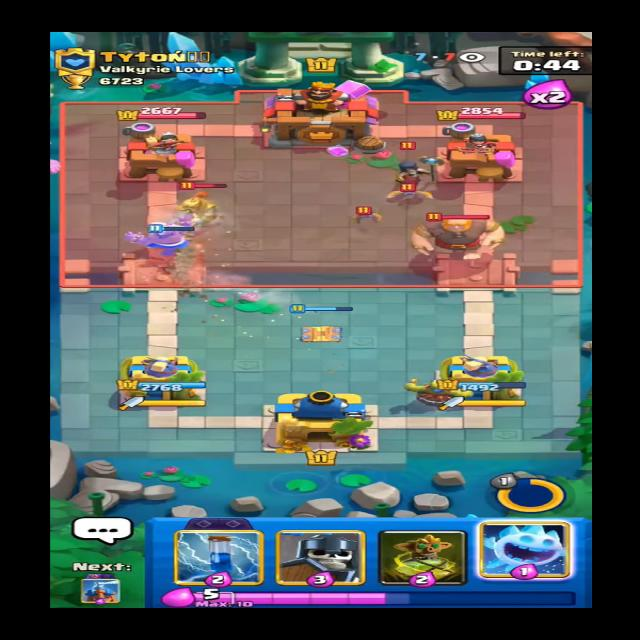Bat: (386, 184, 436, 203), (349, 206, 394, 223)
Giant: (411, 207, 514, 253)
Nightwitch: (392, 142, 438, 195)
Prince: (171, 178, 223, 236)
